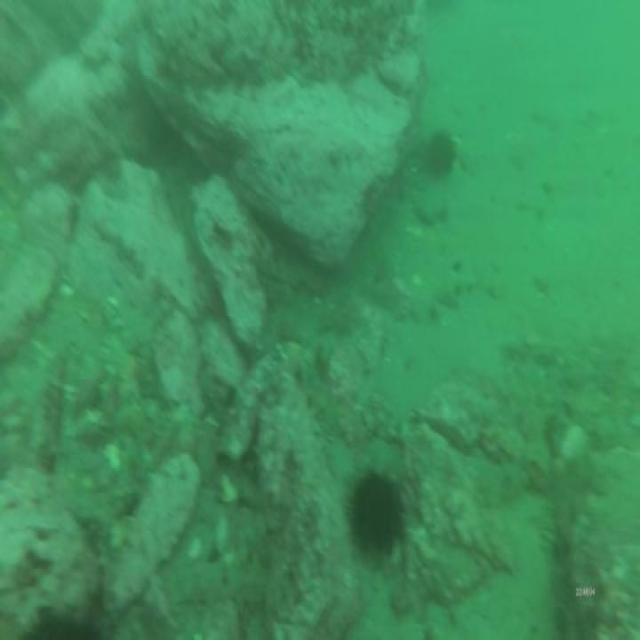echinus: (344, 463, 408, 569), (424, 124, 457, 184)
